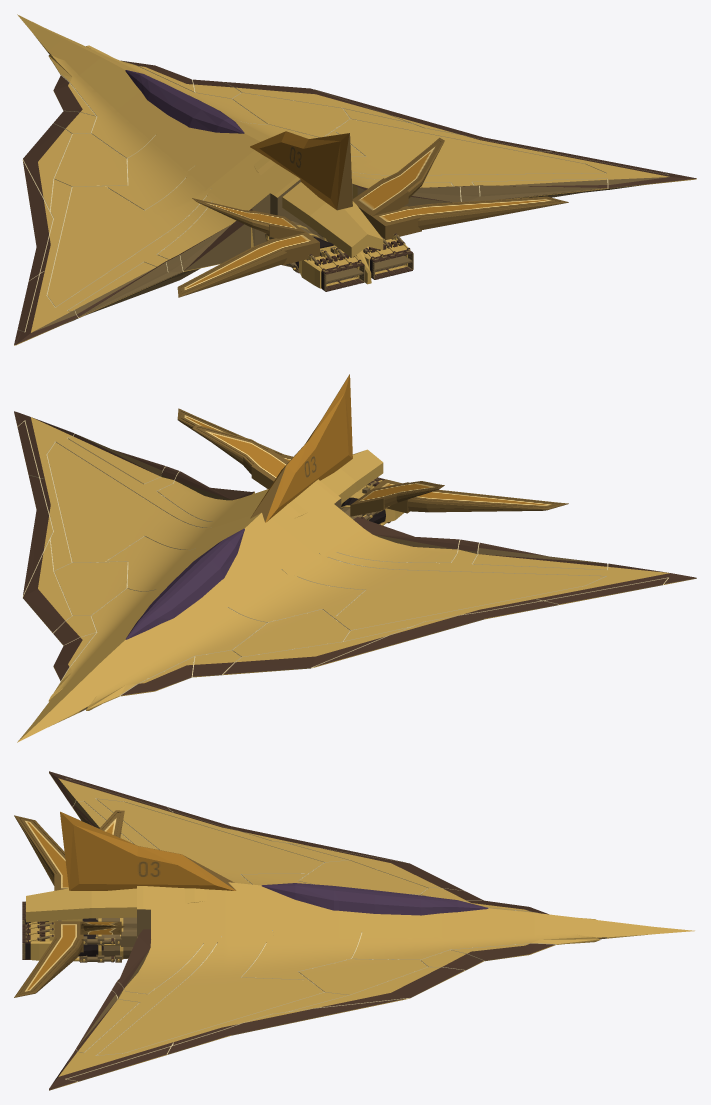
File: B_gold_prism.glb
3 views of the same model, one above another, from view 1: azimuth 30°, elevation 25°; view 2: azimuth 150°, elevation 25°; view 3: azimuth 270°, elevation 25° (orthographic). The views are drawn at different scales.
Parts seen in each view (by area): view 1: AF_MAIN_WING_JOINED_01, AF_BODY_01, AF_MATCH_TAIL_CENTER, AF_REAR_WING_R3_R_tail_end_horizontal_blade, AF_MATCH_AFT_SADDLE, AF_REAR_WING_R3_R_tail_end_horizontal_blade_L, AF_DOME_CENTER_01, AF_REAR_WING_R3_R_small_upper_canted_blade, AF_REAR_WING_R3_R_small_upper_canted_blade_L, AF_ENGINE_E2_R_low_wide_cowl_L; view 2: AF_MAIN_WING_JOINED_01, AF_BODY_01, AF_MATCH_TAIL_CENTER, AF_DOME_CENTER_01, AF_REAR_WING_R3_R_tail_end_horizontal_blade_L, AF_REAR_WING_R3_R_small_upper_canted_blade, AF_MATCH_AFT_SADDLE, AF_REAR_WING_R3_R_small_upper_canted_blade_L, AF_REAR_WING_R3_R_tail_end_horizontal_blade; view 3: AF_MAIN_WING_JOINED_01, AF_MATCH_TAIL_CENTER, AF_DOME_CENTER_01, AF_MATCH_AFT_SADDLE, AF_REAR_WING_R3_R_tail_end_horizontal_blade, AF_REAR_WING_R3_R_tail_end_horizontal_blade_L, AF_REAR_WING_R3_R_small_upper_canted_blade, AF_ENGINE_E2_R_low_wide_cowl.
Boxes of the visible parts, bbox=[...] form: AF_MAIN_WING_JOINED_01: bbox=[14, 16, 696, 345]; AF_BODY_01: bbox=[17, 14, 324, 266]; AF_MATCH_TAIL_CENTER: bbox=[250, 131, 352, 210]; AF_REAR_WING_R3_R_tail_end_horizontal_blade: bbox=[370, 196, 568, 240]; AF_MATCH_AFT_SADDLE: bbox=[253, 156, 383, 257]; AF_REAR_WING_R3_R_tail_end_horizontal_blade_L: bbox=[177, 231, 319, 297]; AF_DOME_CENTER_01: bbox=[125, 70, 244, 133]; AF_REAR_WING_R3_R_small_upper_canted_blade: bbox=[352, 137, 444, 221]; AF_REAR_WING_R3_R_small_upper_canted_blade_L: bbox=[192, 198, 305, 238]; AF_ENGINE_E2_R_low_wide_cowl_L: bbox=[297, 245, 359, 288]; AF_MAIN_WING_JOINED_01: bbox=[14, 411, 696, 742]; AF_BODY_01: bbox=[17, 479, 362, 742]; AF_MATCH_TAIL_CENTER: bbox=[250, 374, 352, 522]; AF_DOME_CENTER_01: bbox=[125, 528, 244, 639]; AF_REAR_WING_R3_R_tail_end_horizontal_blade_L: bbox=[370, 479, 568, 513]; AF_REAR_WING_R3_R_small_upper_canted_blade: bbox=[192, 424, 288, 488]; AF_MATCH_AFT_SADDLE: bbox=[253, 449, 383, 518]; AF_REAR_WING_R3_R_small_upper_canted_blade_L: bbox=[350, 481, 444, 516]; AF_REAR_WING_R3_R_tail_end_horizontal_blade: bbox=[177, 408, 293, 461]; AF_MAIN_WING_JOINED_01: bbox=[49, 771, 694, 1090]; AF_MATCH_TAIL_CENTER: bbox=[60, 811, 236, 890]; AF_DOME_CENTER_01: bbox=[261, 883, 488, 915]; AF_MATCH_AFT_SADDLE: bbox=[26, 888, 206, 922]; AF_REAR_WING_R3_R_tail_end_horizontal_blade: bbox=[14, 921, 83, 997]; AF_REAR_WING_R3_R_tail_end_horizontal_blade_L: bbox=[14, 815, 68, 890]; AF_REAR_WING_R3_R_small_upper_canted_blade: bbox=[80, 921, 124, 934]; AF_ENGINE_E2_R_low_wide_cowl: bbox=[30, 923, 80, 960].
Bounding box in the file's own units: 14.65 × 3.44 × 13.26.
Materials: 17 (5 with a texture image).
